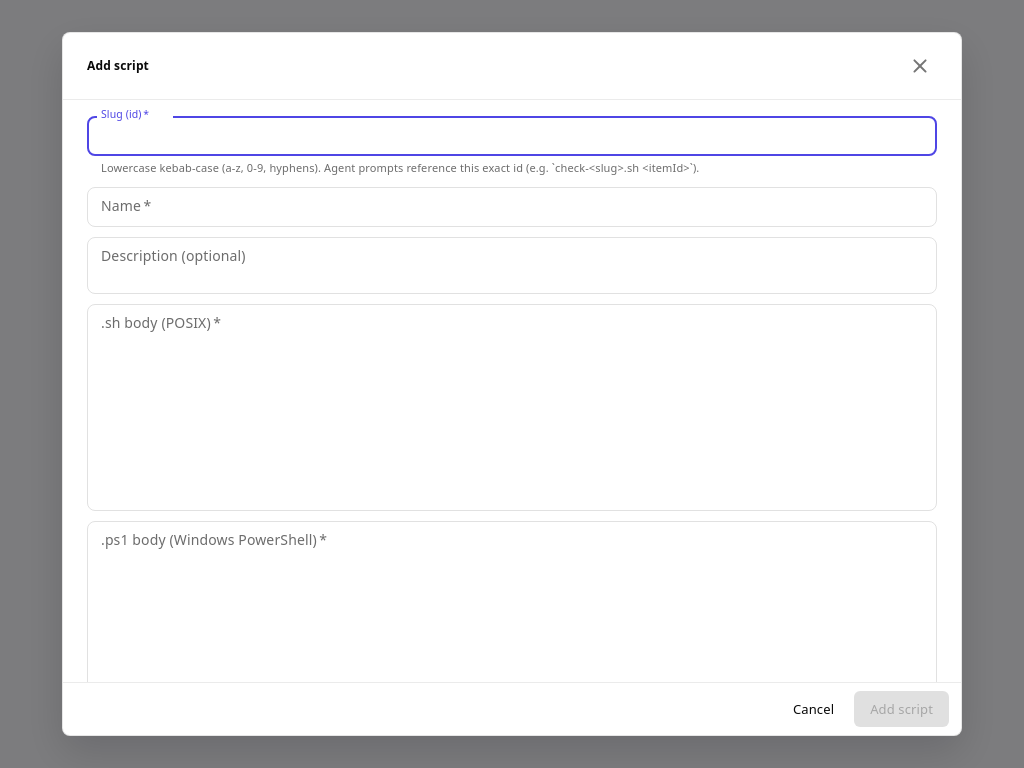
Test: ScriptModal › enables submit once all required fields are filled
In the field labelled "Slug (id) *": x=512, y=136 [87,116,937,156], type "lint"
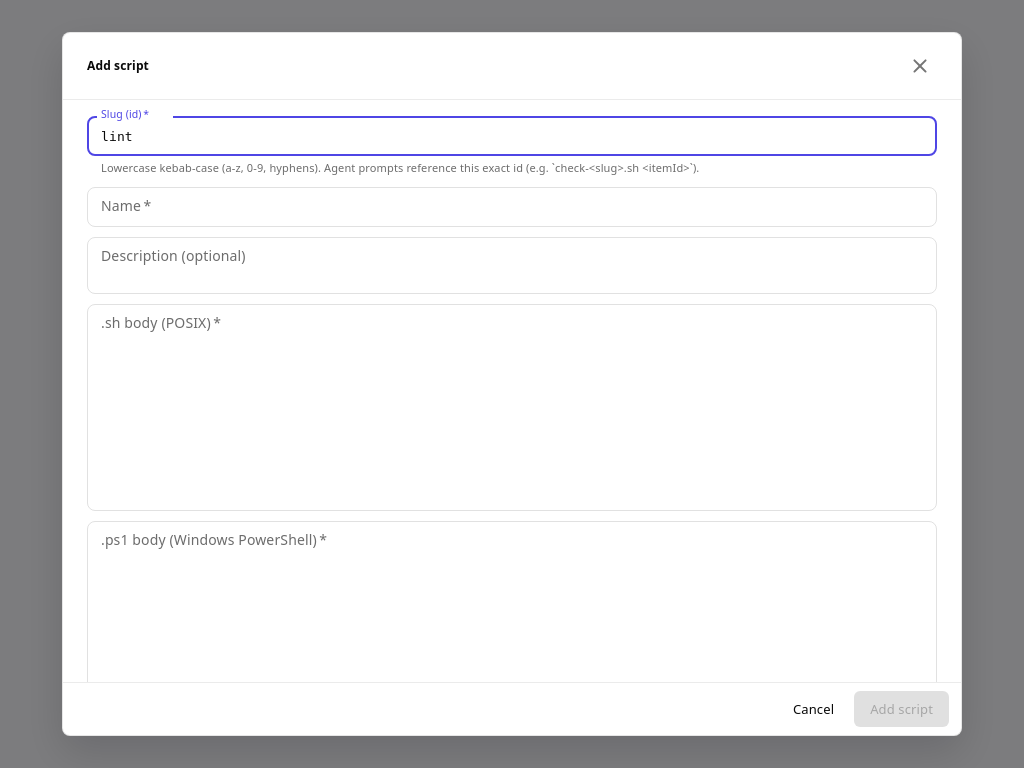
In the field labelled "Name *": x=512, y=206 [87,186,937,226], type "X"
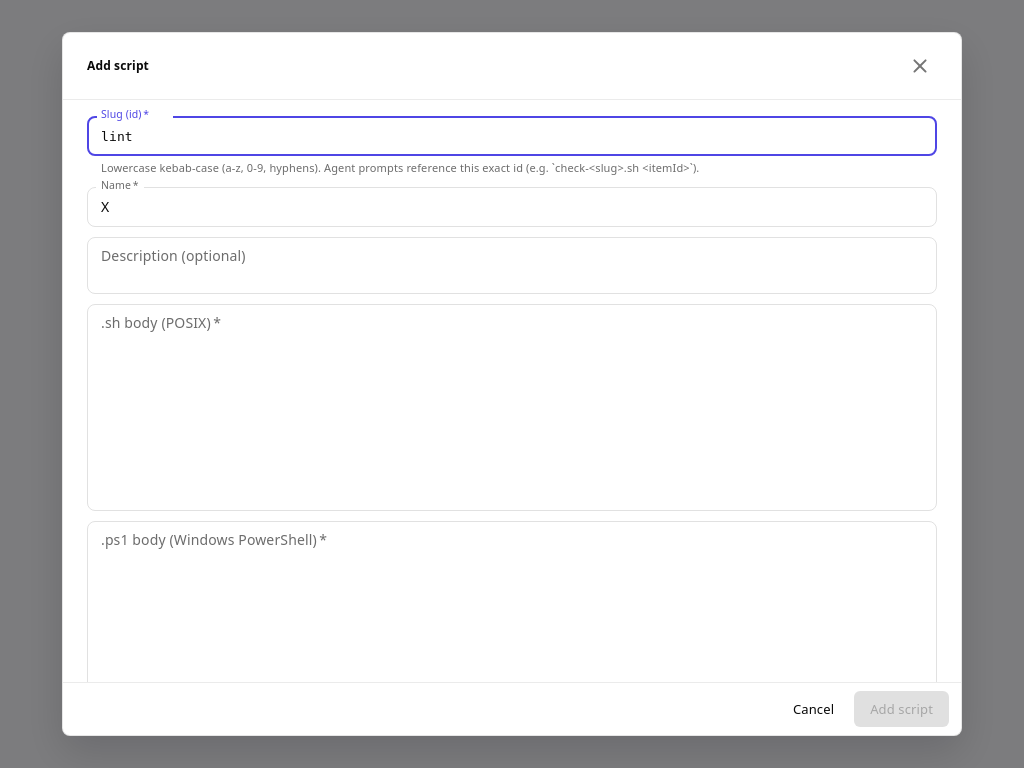
Replace the text in the text box labelled ".sh body (POSIX) *" with "echo": x=512, y=407 [101,312,923,502]
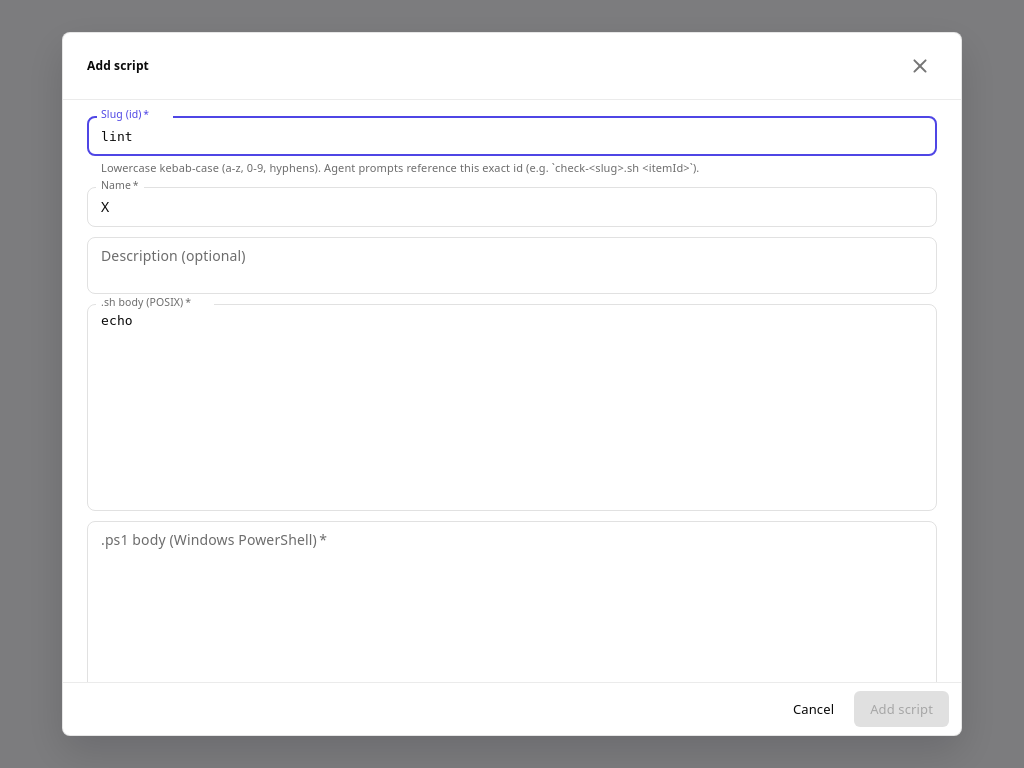
Replace the text in the text box labelled ".ps1 body (Windows PowerShell) *" with "echo": x=512, y=624 [101,529,923,719]
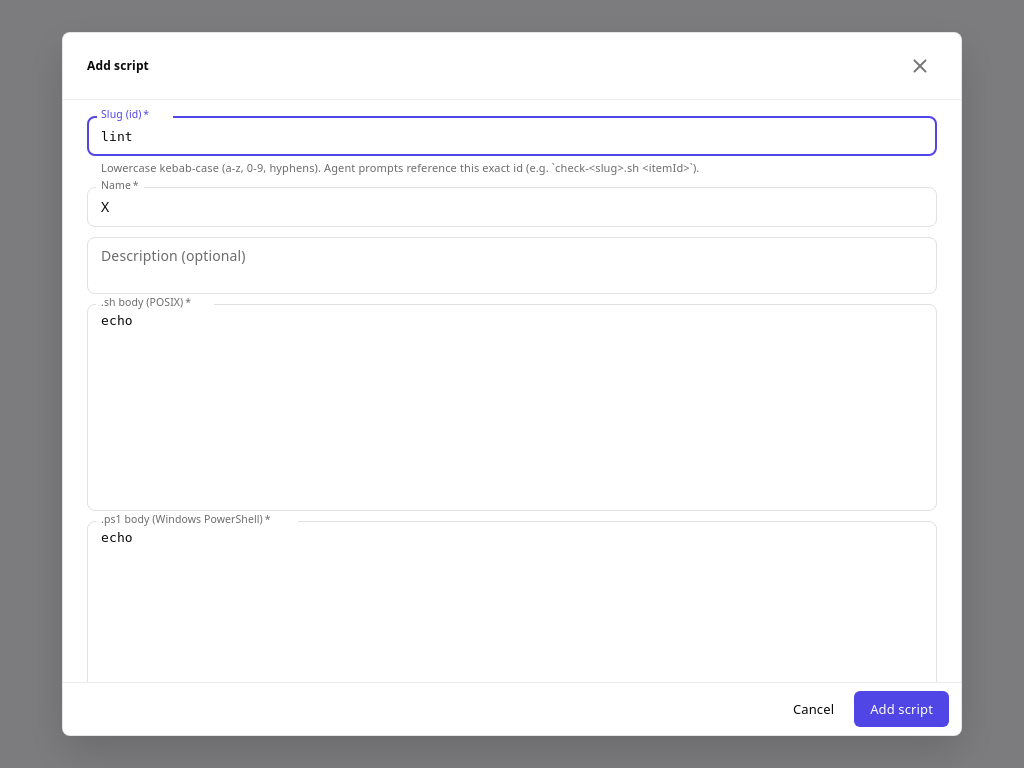
Expected: the button "Add script" is enabled, [854,691,949,727]
